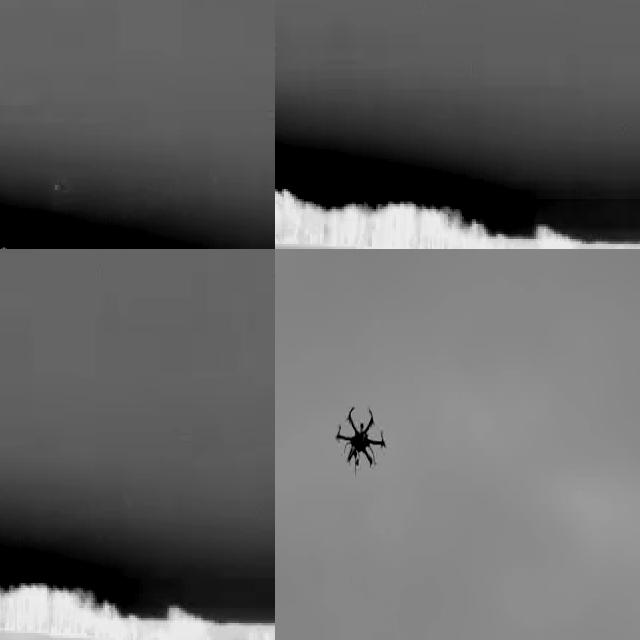0: (38, 172, 76, 210)
drone: (328, 395, 390, 473)
